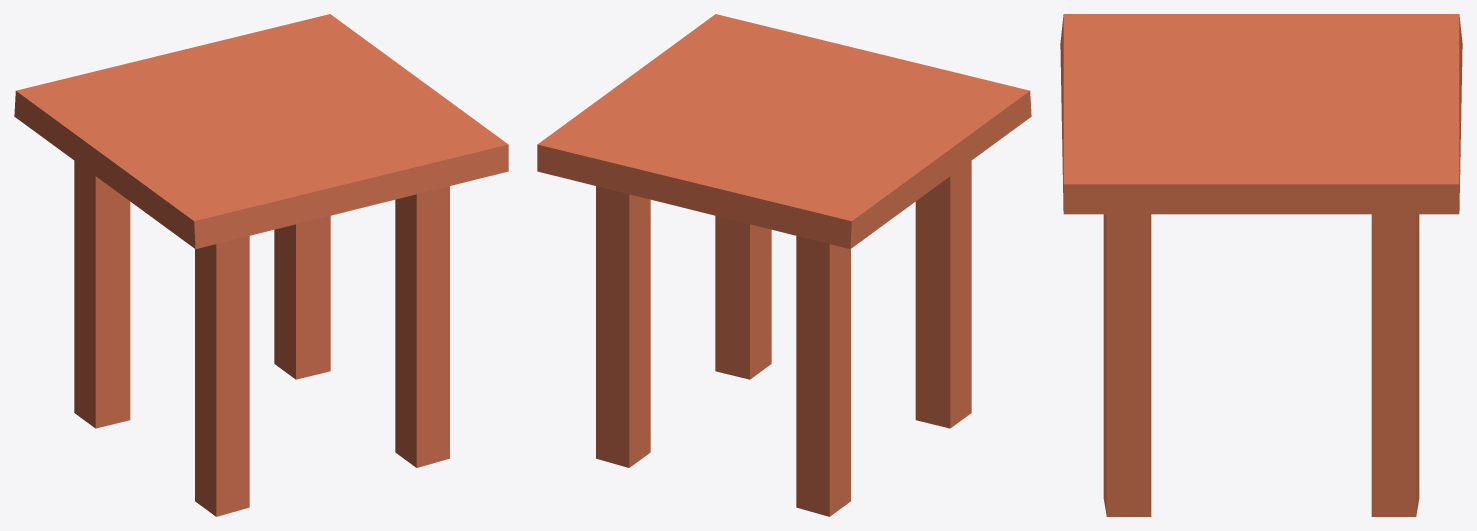
The model's file is chair.fbx.
The picture shows the model from 3 angles, left to right: view 1: azimuth 30°, elevation 25°; view 2: azimuth 150°, elevation 25°; view 3: azimuth 270°, elevation 25°; orthographic projection. The views are drawn at different scales.
Visible parts, largest first — view 1: Cube; view 2: Cube; view 3: Cube.
Part boxes in pixels (x1,y1,x2,y2): Cube: (14,14,508,516); Cube: (537,14,1031,516); Cube: (1060,14,1462,516).
Size of the model in its own units: 97.14 by 94.09 by 96.94.
